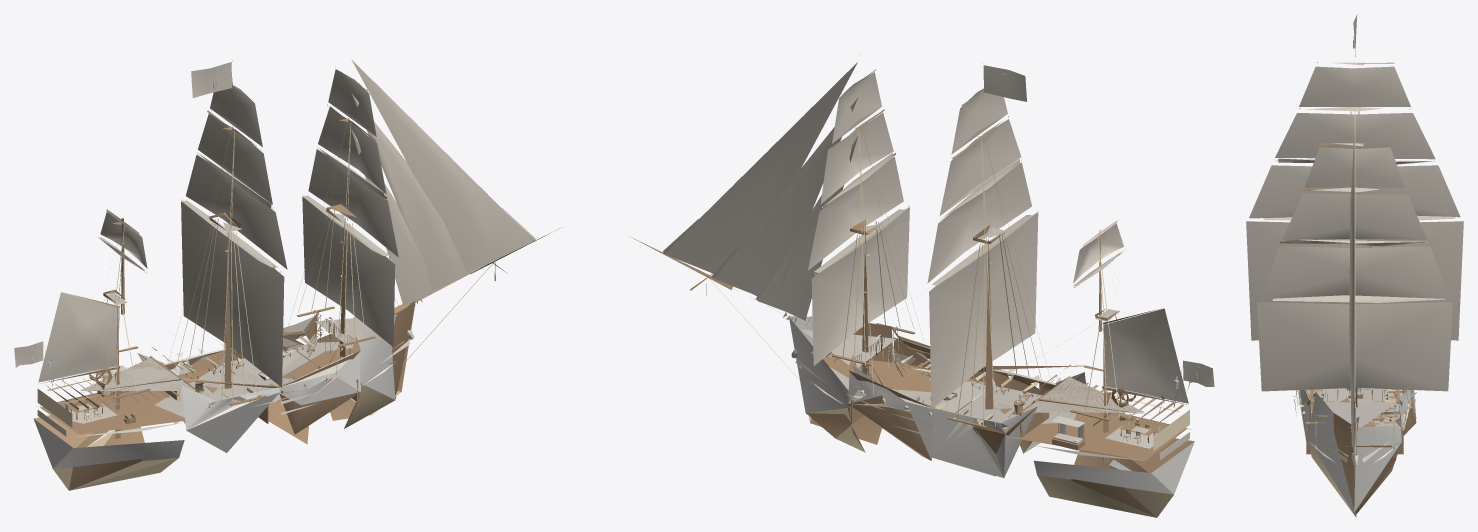
The model's file is Second_Bride_LOD1.dae.
3 views of the same model, side by side, from view 1: azimuth 30°, elevation 25°; view 2: azimuth 150°, elevation 25°; view 3: azimuth 270°, elevation 25° (orthographic). The views are drawn at different scales.
Parts seen in each view (by area): view 1: Bride_Sails_Main_LOD1, Bride_Sails_Head_LOD1, Bride_Sails_Fore_LOD1, Bride_Hull_Stern_LOD1, Bride_Sails_Mizzen_LOD1, Bride_Hull_Fore_LOD1, Bride_Hull_Aft_LOD1, Bride_Hull_Bow_LOD1, Bride_Deck_Main_LOD1, Bride_Deck_Quarter_LOD1, Bride_Deck_Main_Fore_LOD1, Bride_Shrouds_Main_S_LOD1 (+9 smaller); view 2: Bride_Sails_Main_LOD1, Bride_Sails_Head_LOD1, Bride_Sails_Fore_LOD1, Bride_Hull_Stern_LOD1, Bride_Sails_Mizzen_LOD1, Bride_Hull_Aft_LOD1, Bride_Hull_Bow_LOD1, Bride_Hull_Fore_LOD1, Bride_Deck_Main_LOD1, Bride_Deck_Main_Fore_LOD1, Bride_Deck_Quarter_LOD1, Bride_Furled_Main_LOD1 (+10 smaller); view 3: Bride_Sails_Fore_LOD1, Bride_Sails_Main_LOD1, Bride_Hull_Bow_LOD1, Bride_Furled_Fore_LOD1, Bride_Sails_Head_LOD1, Bride_Deck_Main_Fore_LOD1, Bride_Deck_Fore_LOD1, Bride_Hull_Fore_LOD1, Bride_Furled_Main_LOD1, Bride_Stays_LOD1, Bride_Bowsprit_LOD1.
Part boxes in pixels (left/top/right/bottom): Bride_Sails_Main_LOD1: left=181, top=85, right=287, bottom=387; Bride_Sails_Head_LOD1: left=351, top=59, right=533, bottom=305; Bride_Sails_Fore_LOD1: left=302, top=69, right=398, bottom=346; Bride_Hull_Stern_LOD1: left=33, top=346, right=184, bottom=490; Bride_Sails_Mizzen_LOD1: left=38, top=212, right=147, bottom=382; Bride_Hull_Fore_LOD1: left=230, top=310, right=360, bottom=443; Bride_Hull_Aft_LOD1: left=137, top=348, right=279, bottom=452; Bride_Hull_Bow_LOD1: left=317, top=301, right=415, bottom=428; Bride_Deck_Main_LOD1: left=40, top=365, right=273, bottom=434; Bride_Deck_Quarter_LOD1: left=46, top=346, right=195, bottom=409; Bride_Deck_Main_Fore_LOD1: left=223, top=341, right=404, bottom=402; Bride_Shrouds_Main_S_LOD1: left=221, top=131, right=267, bottom=405; Bride_Sails_Main_LOD1: left=927, top=88, right=1038, bottom=408; Bride_Sails_Head_LOD1: left=664, top=62, right=857, bottom=320; Bride_Sails_Fore_LOD1: left=808, top=72, right=909, bottom=365; Bride_Hull_Stern_LOD1: left=1034, top=365, right=1194, bottom=517; Bride_Sails_Mizzen_LOD1: left=1073, top=223, right=1188, bottom=403; Bride_Hull_Aft_LOD1: left=932, top=365, right=1085, bottom=477; Bride_Hull_Bow_LOD1: left=789, top=316, right=894, bottom=452; Bride_Hull_Fore_LOD1: left=848, top=327, right=985, bottom=460; Bride_Deck_Main_LOD1: left=957, top=384, right=1186, bottom=460; Bride_Deck_Main_Fore_LOD1: left=823, top=356, right=994, bottom=412; Bride_Deck_Quarter_LOD1: left=1022, top=365, right=1183, bottom=430; Bride_Furled_Main_LOD1: left=932, top=89, right=1032, bottom=285; Bride_Sails_Fore_LOD1: left=1257, top=147, right=1452, bottom=391; Bride_Sails_Main_LOD1: left=1246, top=66, right=1463, bottom=340; Bride_Hull_Bow_LOD1: left=1308, top=392, right=1401, bottom=517; Bride_Furled_Fore_LOD1: left=1272, top=143, right=1445, bottom=302; Bride_Sails_Head_LOD1: left=1349, top=132, right=1354, bottom=450; Bride_Deck_Main_Fore_LOD1: left=1307, top=388, right=1408, bottom=456; Bride_Deck_Fore_LOD1: left=1313, top=389, right=1396, bottom=431; Bride_Hull_Fore_LOD1: left=1294, top=389, right=1416, bottom=446; Bride_Furled_Main_LOD1: left=1263, top=62, right=1455, bottom=220; Bride_Stays_LOD1: left=1354, top=107, right=1355, bottom=485; Bride_Bowsprit_LOD1: left=1305, top=415, right=1402, bottom=468.
Bounding box in the file's own units: 58.49 × 18.8 × 39.66.
